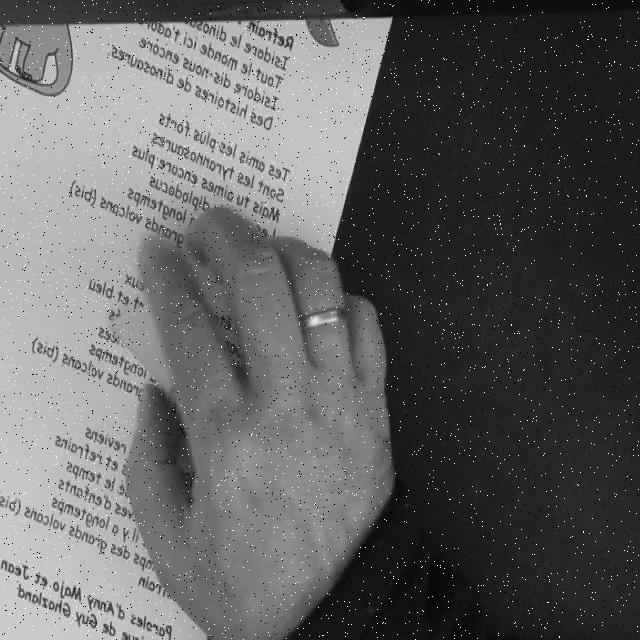triangle: (105, 291, 186, 398)
